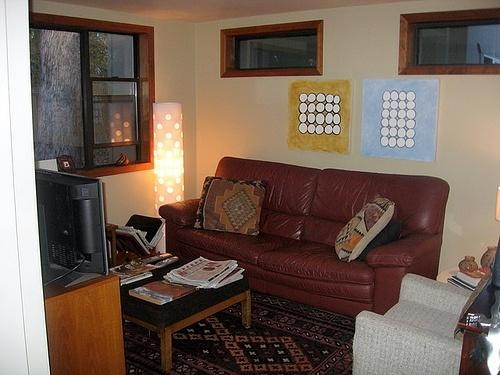chair: (354, 273, 475, 375)
sofa: (160, 157, 450, 317)
tvmonitor: (36, 170, 111, 277)
